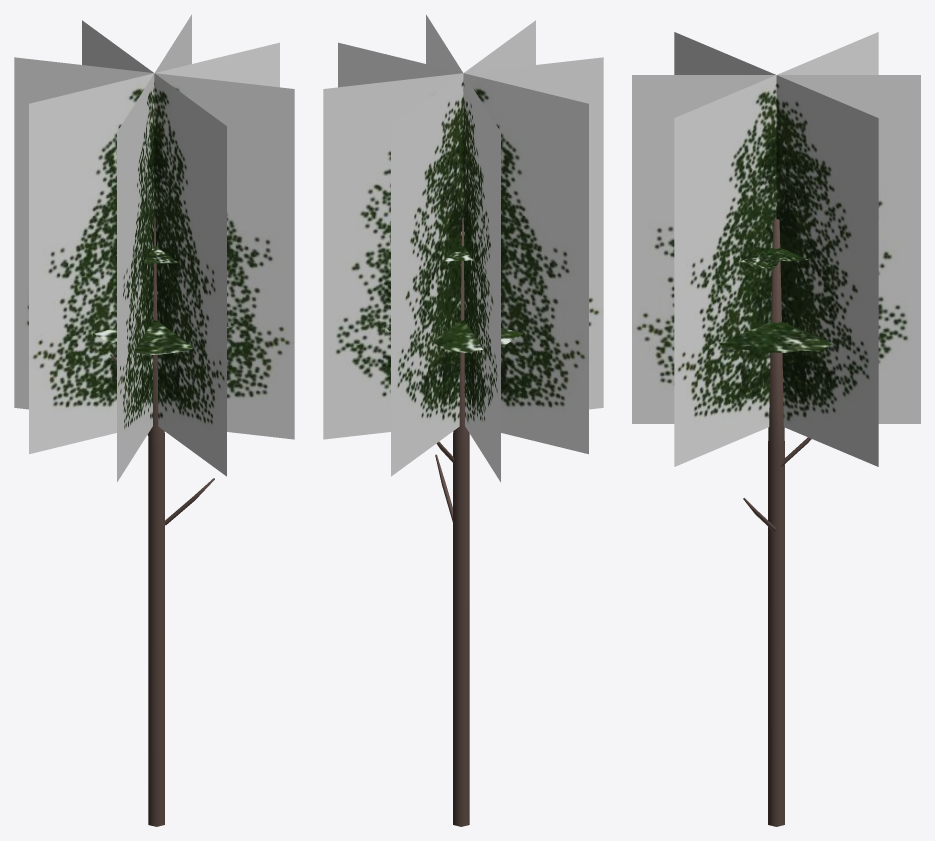
The model's file is arbol largo 01.fbx.
The picture shows the model from 3 angles, left to right: view 1: azimuth 30°, elevation 25°; view 2: azimuth 150°, elevation 25°; view 3: azimuth 270°, elevation 25°; orthographic projection.
Visible parts, largest first — view 1: Component_1_2, Component_1_3, Component_1_1, Component_1_4, Component_7_1, Component_3_1; view 2: Component_1_2, Component_1_4, Component_1_1, Component_1_3, Component_7_1, Component_3_1; view 3: Component_1_4, Component_1_3, Component_1_1, Component_7_1, Component_3_1, Component_3_2.
Part boxes in pixels (x1,y1,x2,y2): Component_1_2: [29, 42, 279, 454]; Component_1_3: [14, 57, 294, 439]; Component_1_1: [82, 20, 226, 476]; Component_1_4: [117, 14, 191, 482]; Component_7_1: [148, 217, 164, 826]; Component_3_1: [94, 320, 232, 355]; Component_1_2: [338, 42, 588, 454]; Component_1_4: [323, 57, 603, 439]; Component_1_1: [391, 20, 535, 476]; Component_1_3: [426, 14, 500, 482]; Component_7_1: [453, 217, 469, 826]; Component_3_1: [385, 320, 523, 353]; Component_1_4: [674, 32, 878, 466]; Component_1_3: [674, 32, 878, 466]; Component_1_1: [632, 75, 920, 423]; Component_7_1: [768, 218, 784, 826]; Component_3_1: [719, 322, 832, 352]; Component_3_2: [740, 248, 808, 268].
Bounding box in the file's own units: 335 × 956 × 335.
